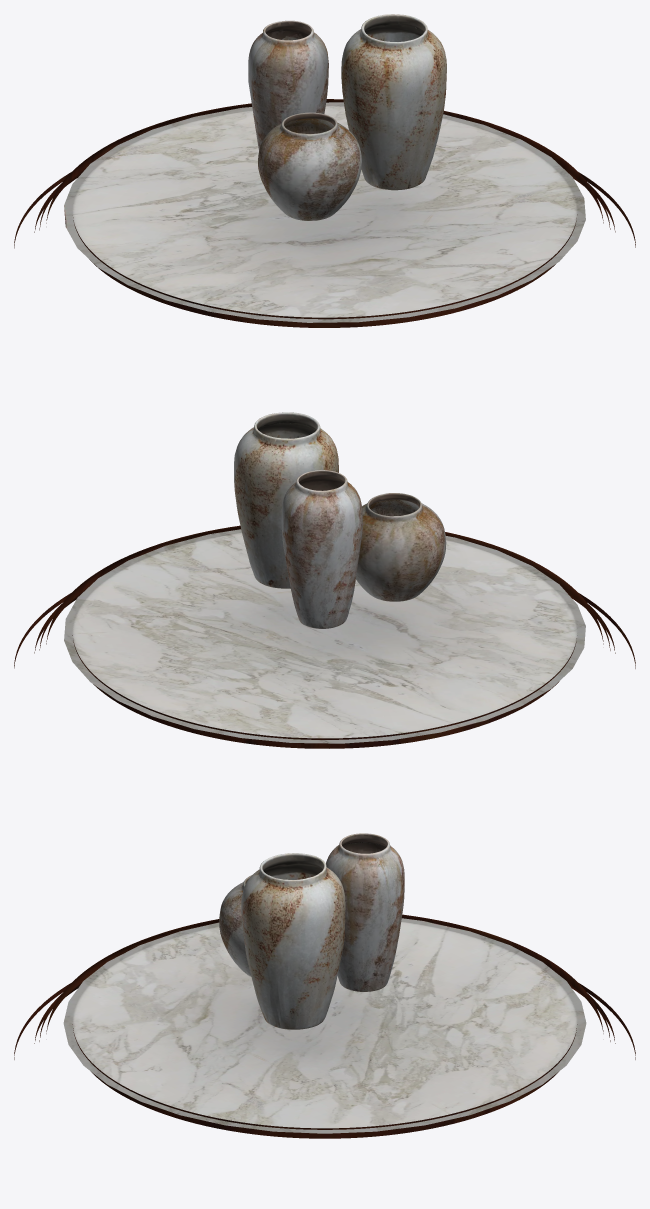
File: escena_2.glb
3 views of the same model, one above another, from view 1: azimuth 30°, elevation 25°; view 2: azimuth 150°, elevation 25°; view 3: azimuth 270°, elevation 25° (orthographic).
Parts seen in each view (by area): view 1: Circle_Baked, Decorations_Vases_Set-Patchy-Brown_01.010_Baked, Decorations_Vases_Set-Patchy-Brown_01.011_Baked, Decorations_Vases_Set-Patchy-Brown_01.012_Baked, Circle.001_Baked; view 2: Circle_Baked, Decorations_Vases_Set-Patchy-Brown_01.012_Baked, Decorations_Vases_Set-Patchy-Brown_01.010_Baked, Decorations_Vases_Set-Patchy-Brown_01.011_Baked, Circle.001_Baked; view 3: Circle_Baked, Decorations_Vases_Set-Patchy-Brown_01.010_Baked, Decorations_Vases_Set-Patchy-Brown_01.012_Baked, Circle.001_Baked, Decorations_Vases_Set-Patchy-Brown_01.011_Baked.
Boxes of the visible parts, x1,y1,x2,y2 form: Circle_Baked: (64,102,585,322); Decorations_Vases_Set-Patchy-Brown_01.010_Baked: (341,14,446,190); Decorations_Vases_Set-Patchy-Brown_01.011_Baked: (258,112,361,220); Decorations_Vases_Set-Patchy-Brown_01.012_Baked: (248,20,328,150); Circle.001_Baked: (14,99,635,327); Circle_Baked: (64,529,585,743); Decorations_Vases_Set-Patchy-Brown_01.012_Baked: (281,470,362,628); Decorations_Vases_Set-Patchy-Brown_01.010_Baked: (234,412,338,588); Decorations_Vases_Set-Patchy-Brown_01.011_Baked: (356,493,446,601); Circle.001_Baked: (14,525,635,748); Circle_Baked: (63,918,586,1133); Decorations_Vases_Set-Patchy-Brown_01.010_Baked: (241,853,345,1029); Decorations_Vases_Set-Patchy-Brown_01.012_Baked: (326,833,404,991); Circle.001_Baked: (14,914,635,1138); Decorations_Vases_Set-Patchy-Brown_01.011_Baked: (219,875,251,976).
Bounding box in the file's own units: 2.3 × 0.9115 × 2.3.
1 material, 1 textured.
